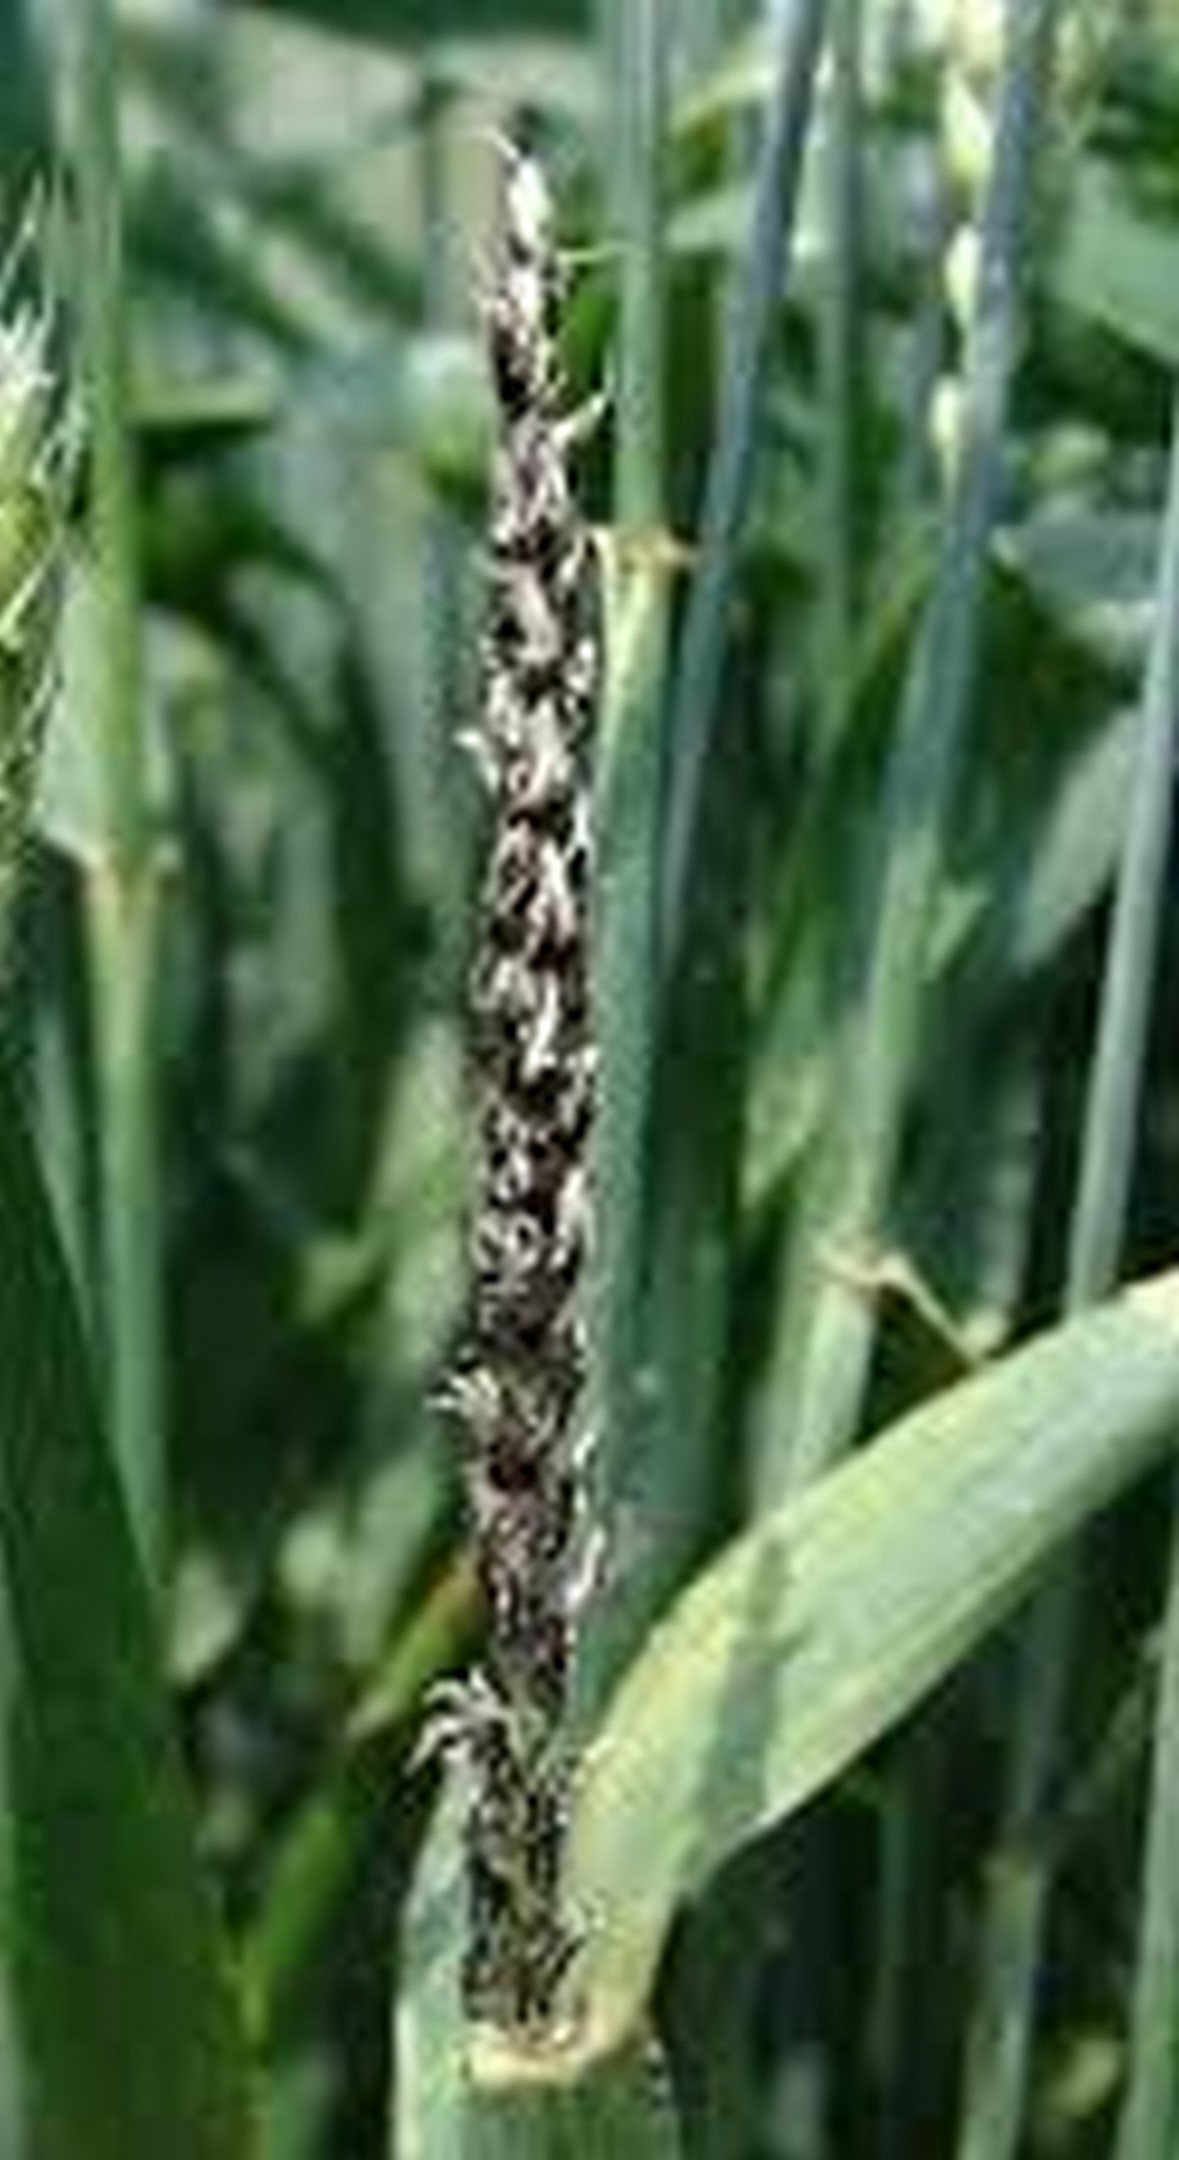Wheat Loose Smut: (392, 247, 662, 1801)
